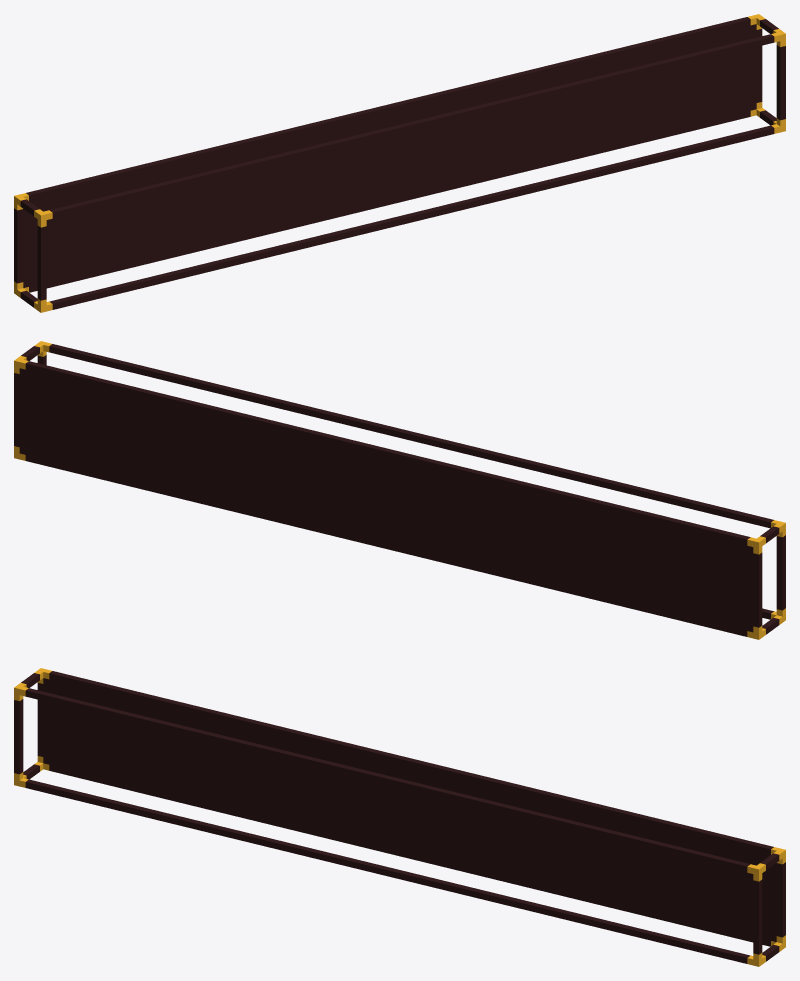
Rendered from SpellBox.fbx.
3 renders of one model, top to bottom at view 1: azimuth 30°, elevation 25°; view 2: azimuth 150°, elevation 25°; view 3: azimuth 330°, elevation 25°, orthographic.
Parts seen in each view (by area): view 1: SpellHolder; view 2: SpellHolder; view 3: SpellHolder.
Part boxes in pixels (left/top/right/bottom): SpellHolder: left=14, top=14, right=785, bottom=312; SpellHolder: left=14, top=341, right=785, bottom=639; SpellHolder: left=14, top=668, right=785, bottom=966.
Size of the model in its own units: 12.8 by 1.6 by 0.8.
